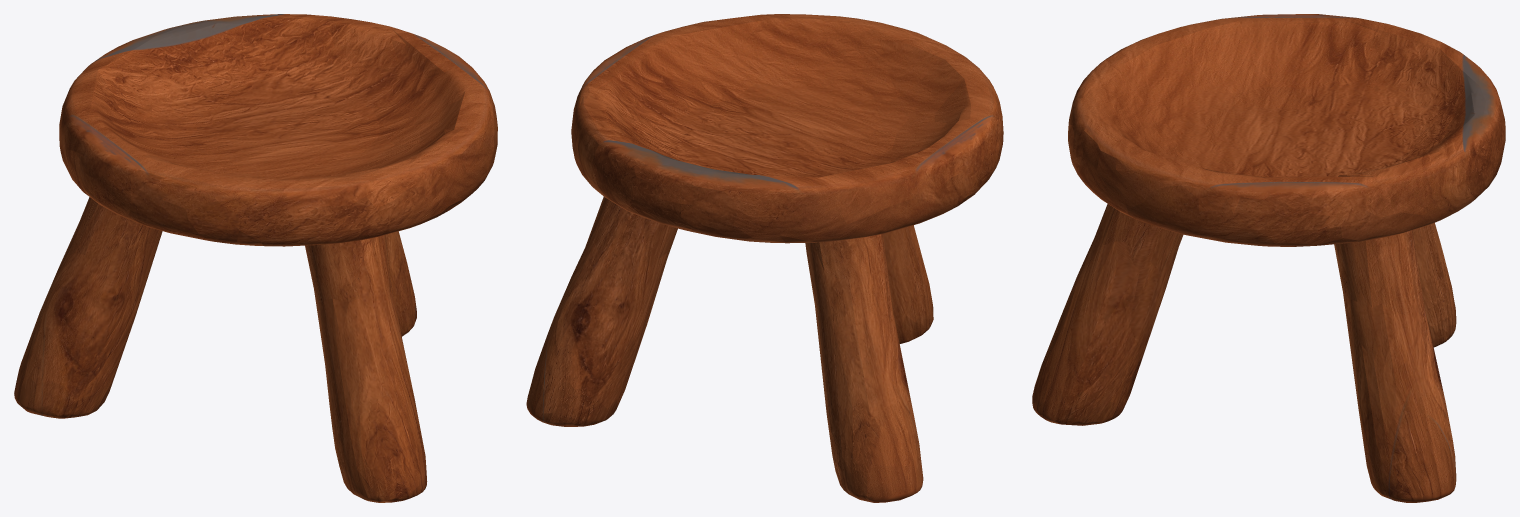
The model's file is stool.glb.
3 views of the same model, side by side, from view 1: azimuth 30°, elevation 25°; view 2: azimuth 150°, elevation 25°; view 3: azimuth 270°, elevation 25° (orthographic).
Parts seen in each view (by area): view 1: output_unwrapped; view 2: output_unwrapped; view 3: output_unwrapped.
Part boxes in pixels (box(x1,y1,x2,y2)): output_unwrapped: box(14, 14, 497, 502); output_unwrapped: box(526, 14, 1003, 502); output_unwrapped: box(1032, 14, 1505, 502).
Bounding box in the file's own units: 1.82 × 1.4 × 1.9.
1 material, 1 textured.
